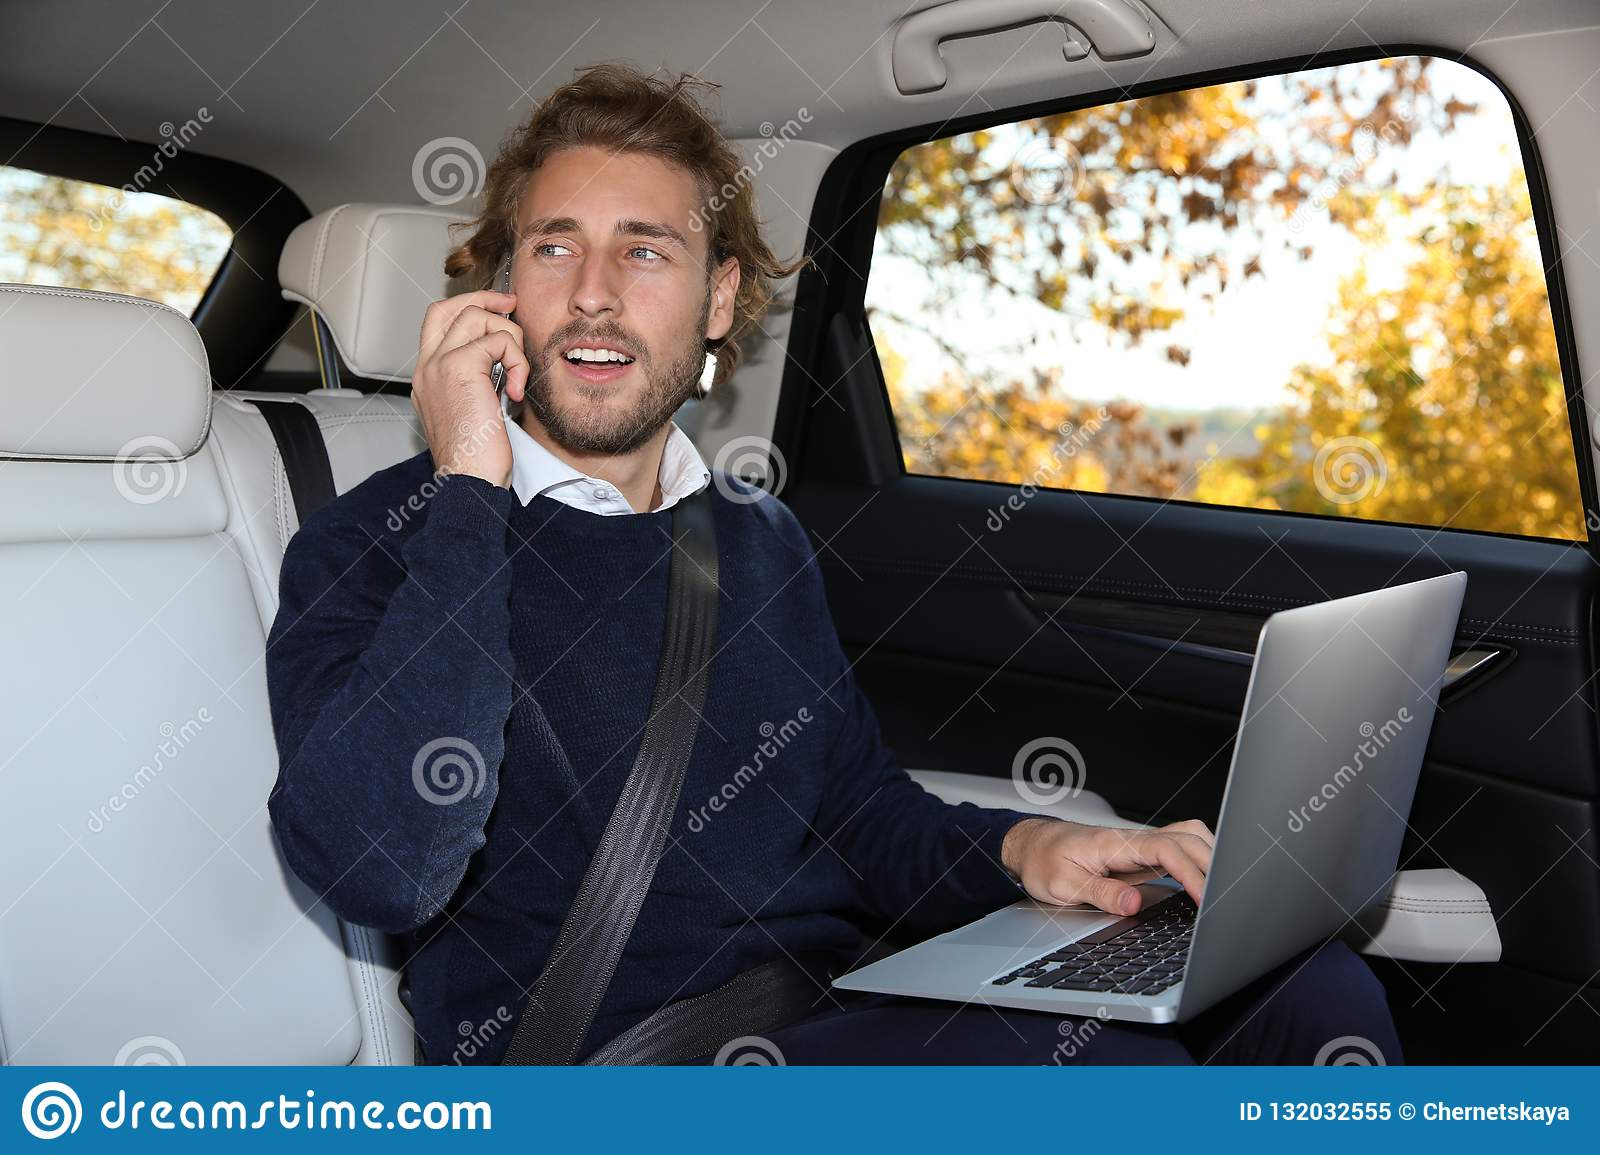phone: (480, 243, 517, 399)
talk: (411, 183, 694, 499)
